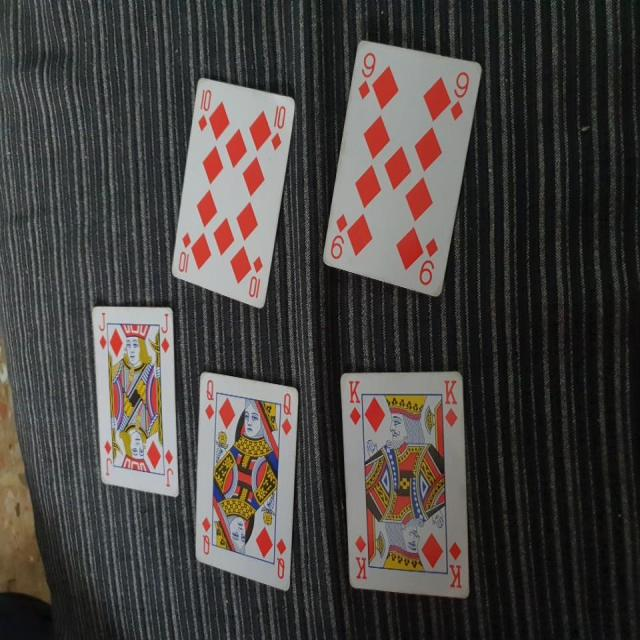10 Diamonds: (170, 76, 295, 312)
9 Diamonds: (321, 38, 484, 297)
J Diamonds: (90, 304, 180, 498)
K Diamonds: (339, 369, 472, 600)
Q Diamonds: (192, 368, 299, 591)
